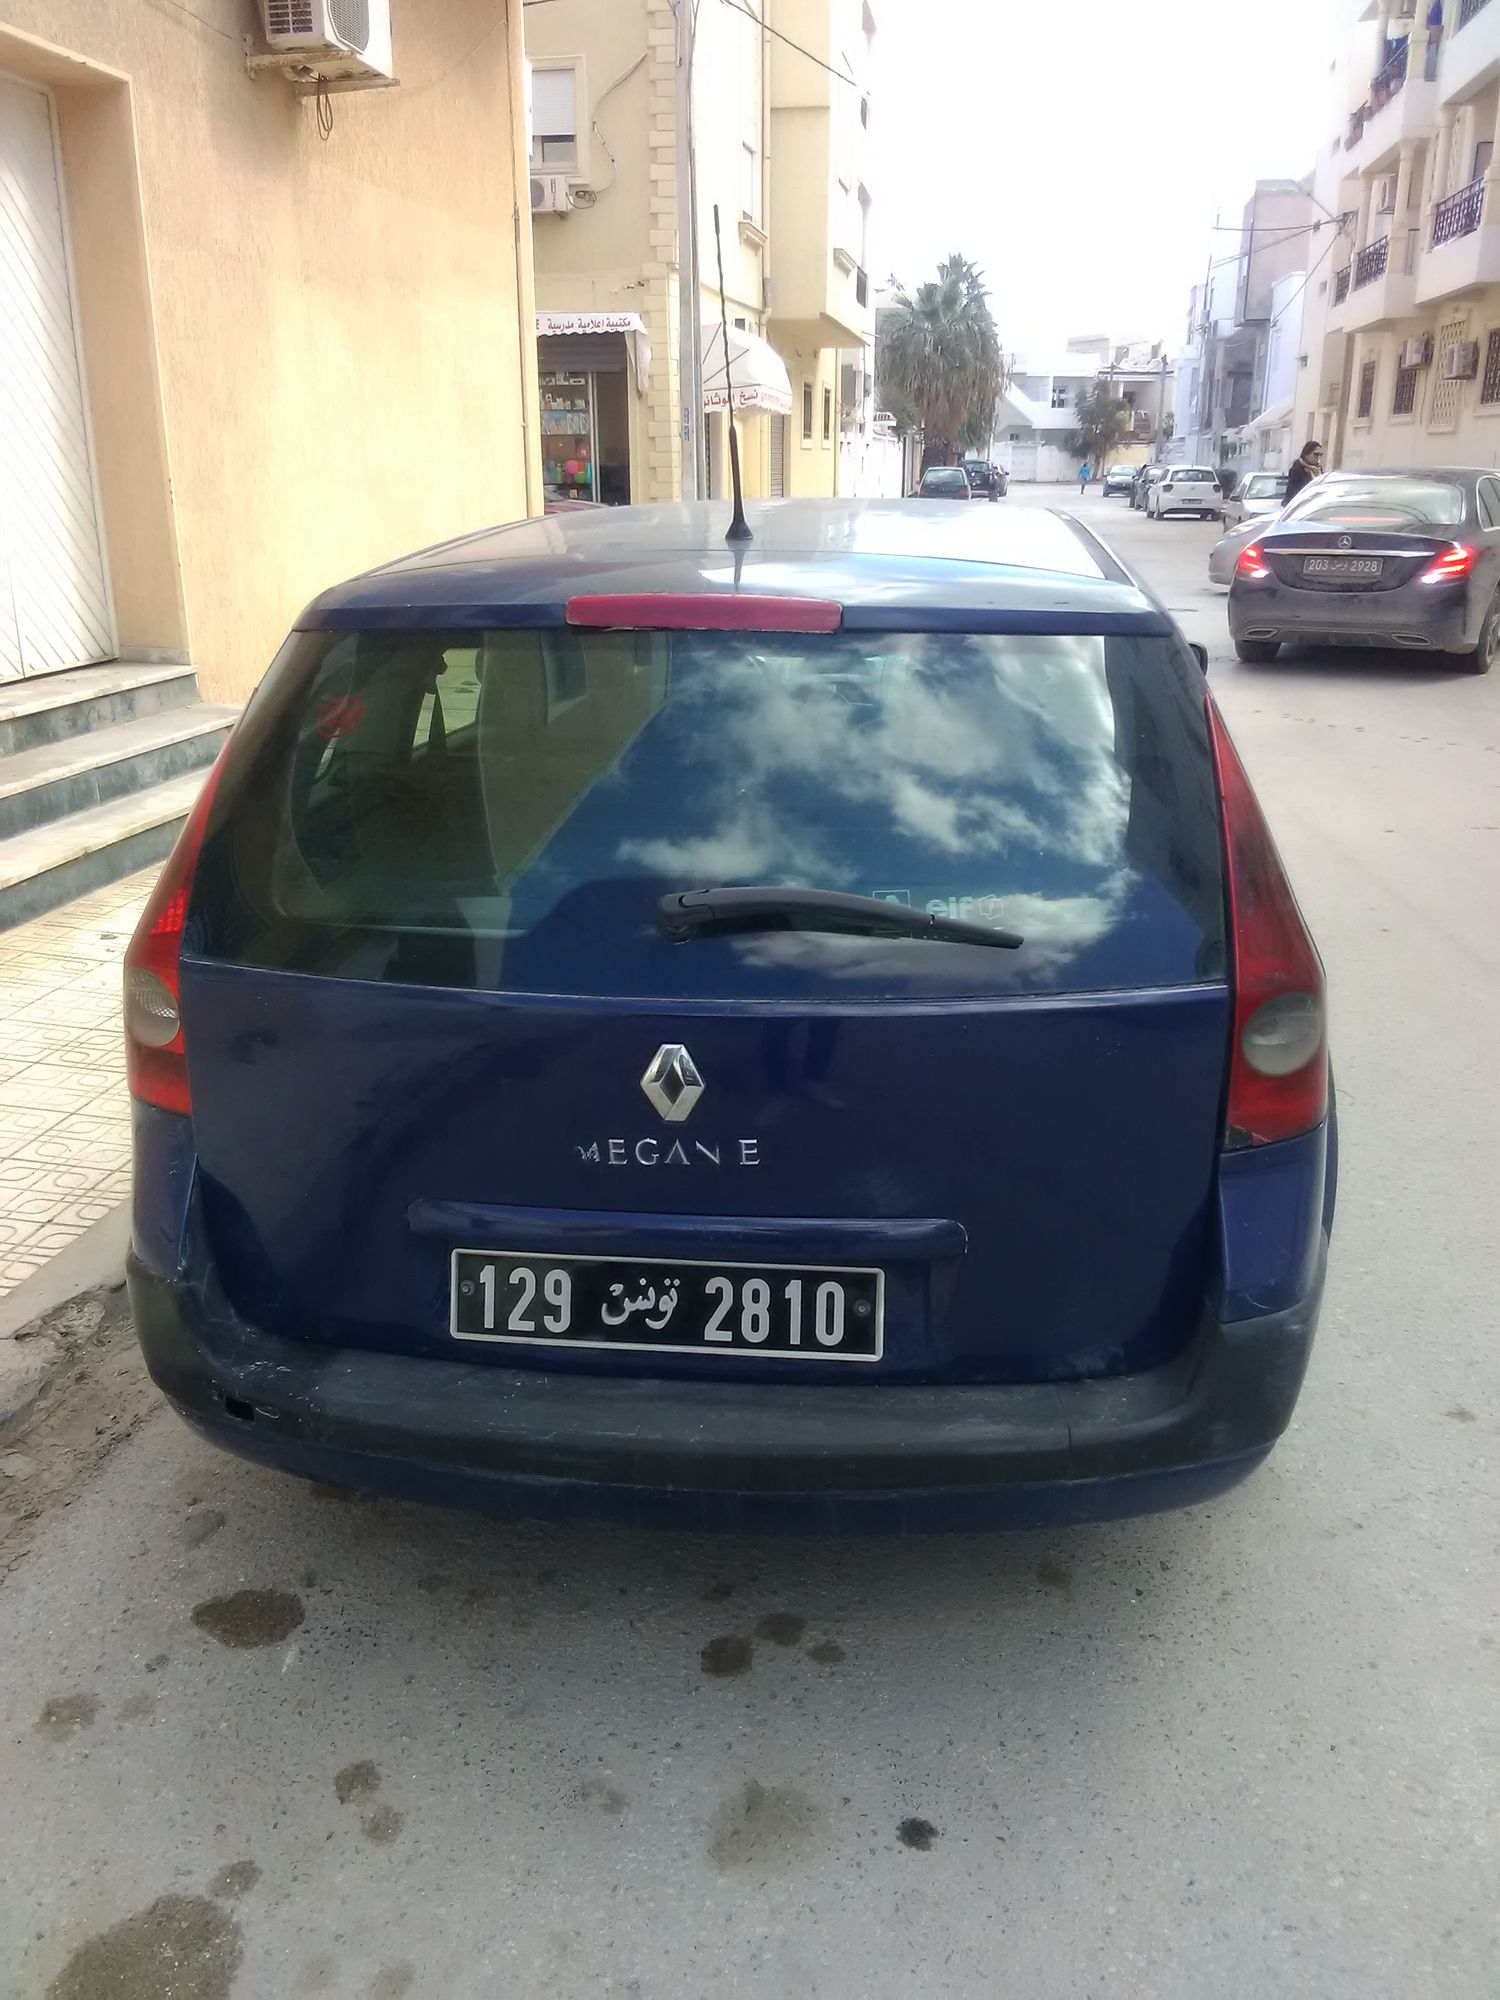LP: (446, 1244, 891, 1370)
